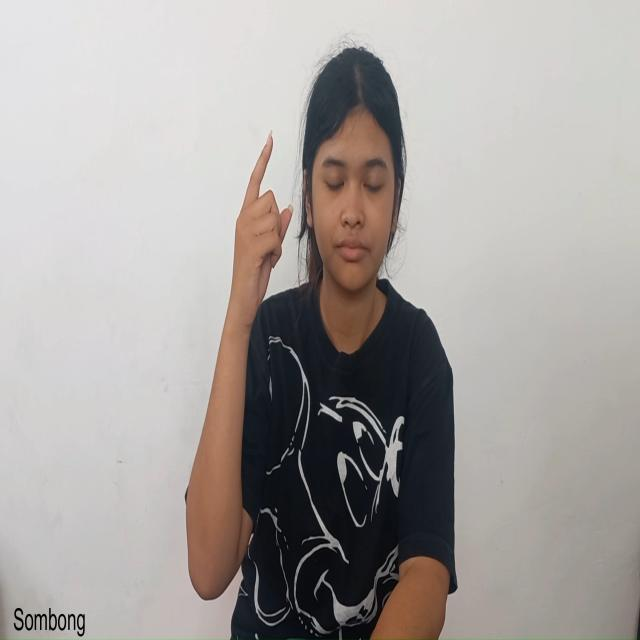Sombong -BISINDO-: (184, 126, 296, 606)
